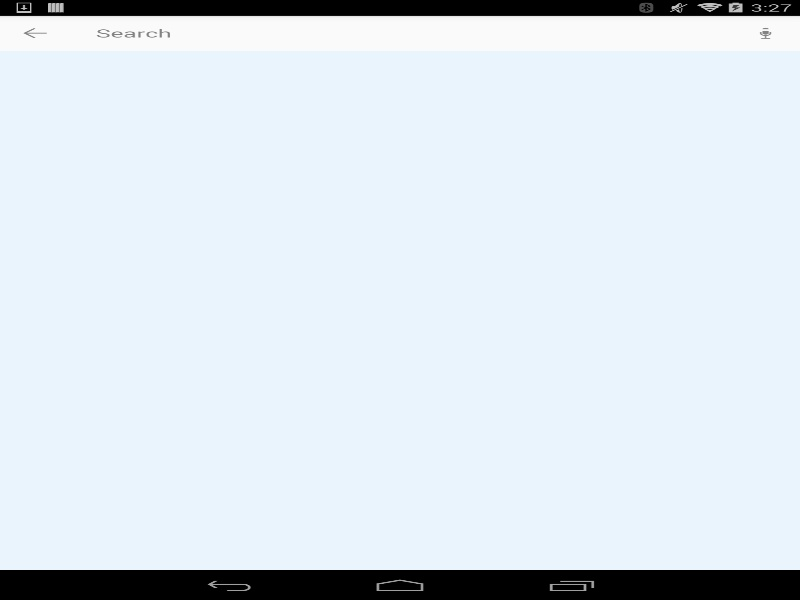Input: (96, 21, 720, 44)
